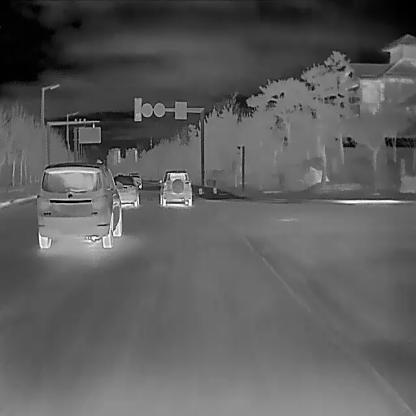car: (37, 161, 124, 249), (159, 169, 192, 206), (113, 173, 141, 206), (129, 173, 142, 188)
